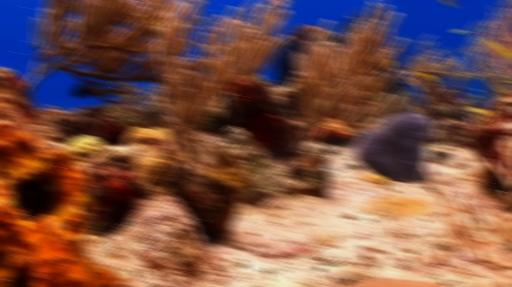Fish: (475, 33, 511, 58), (71, 84, 92, 97), (419, 72, 440, 82), (464, 106, 487, 114), (146, 20, 159, 29), (466, 22, 479, 31), (384, 59, 395, 69), (493, 85, 506, 93), (446, 0, 455, 7), (453, 29, 468, 33), (503, 81, 511, 85), (475, 90, 479, 91)
